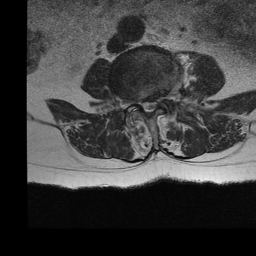CCS_stenosis: (146, 93, 152, 122)
LFS_stenosis: (158, 87, 166, 109)
LLS_stenosis: (152, 93, 158, 116)
RFS_severe_stenosis: (132, 91, 139, 112)
RLS_stenosis: (139, 93, 146, 116)
